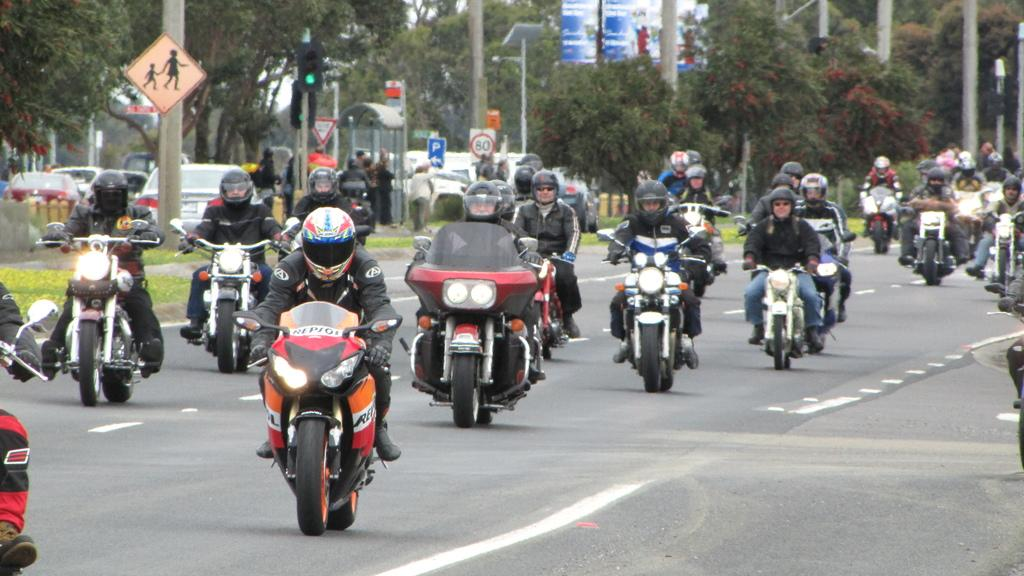helmet: (301, 206, 357, 283), (462, 180, 504, 226), (634, 180, 669, 226), (93, 169, 129, 211), (481, 179, 516, 222), (219, 168, 254, 210), (308, 166, 338, 205), (800, 172, 829, 210), (530, 171, 560, 203), (768, 188, 797, 219), (514, 166, 537, 197), (685, 164, 708, 190), (670, 150, 690, 179), (926, 167, 946, 194), (1003, 176, 1022, 199), (873, 155, 891, 179), (959, 157, 977, 181), (987, 152, 1003, 172)
nohelmet: (356, 150, 366, 162), (363, 157, 373, 169), (380, 156, 390, 168), (497, 160, 507, 172), (415, 165, 425, 176), (378, 147, 387, 158), (315, 146, 324, 156)
